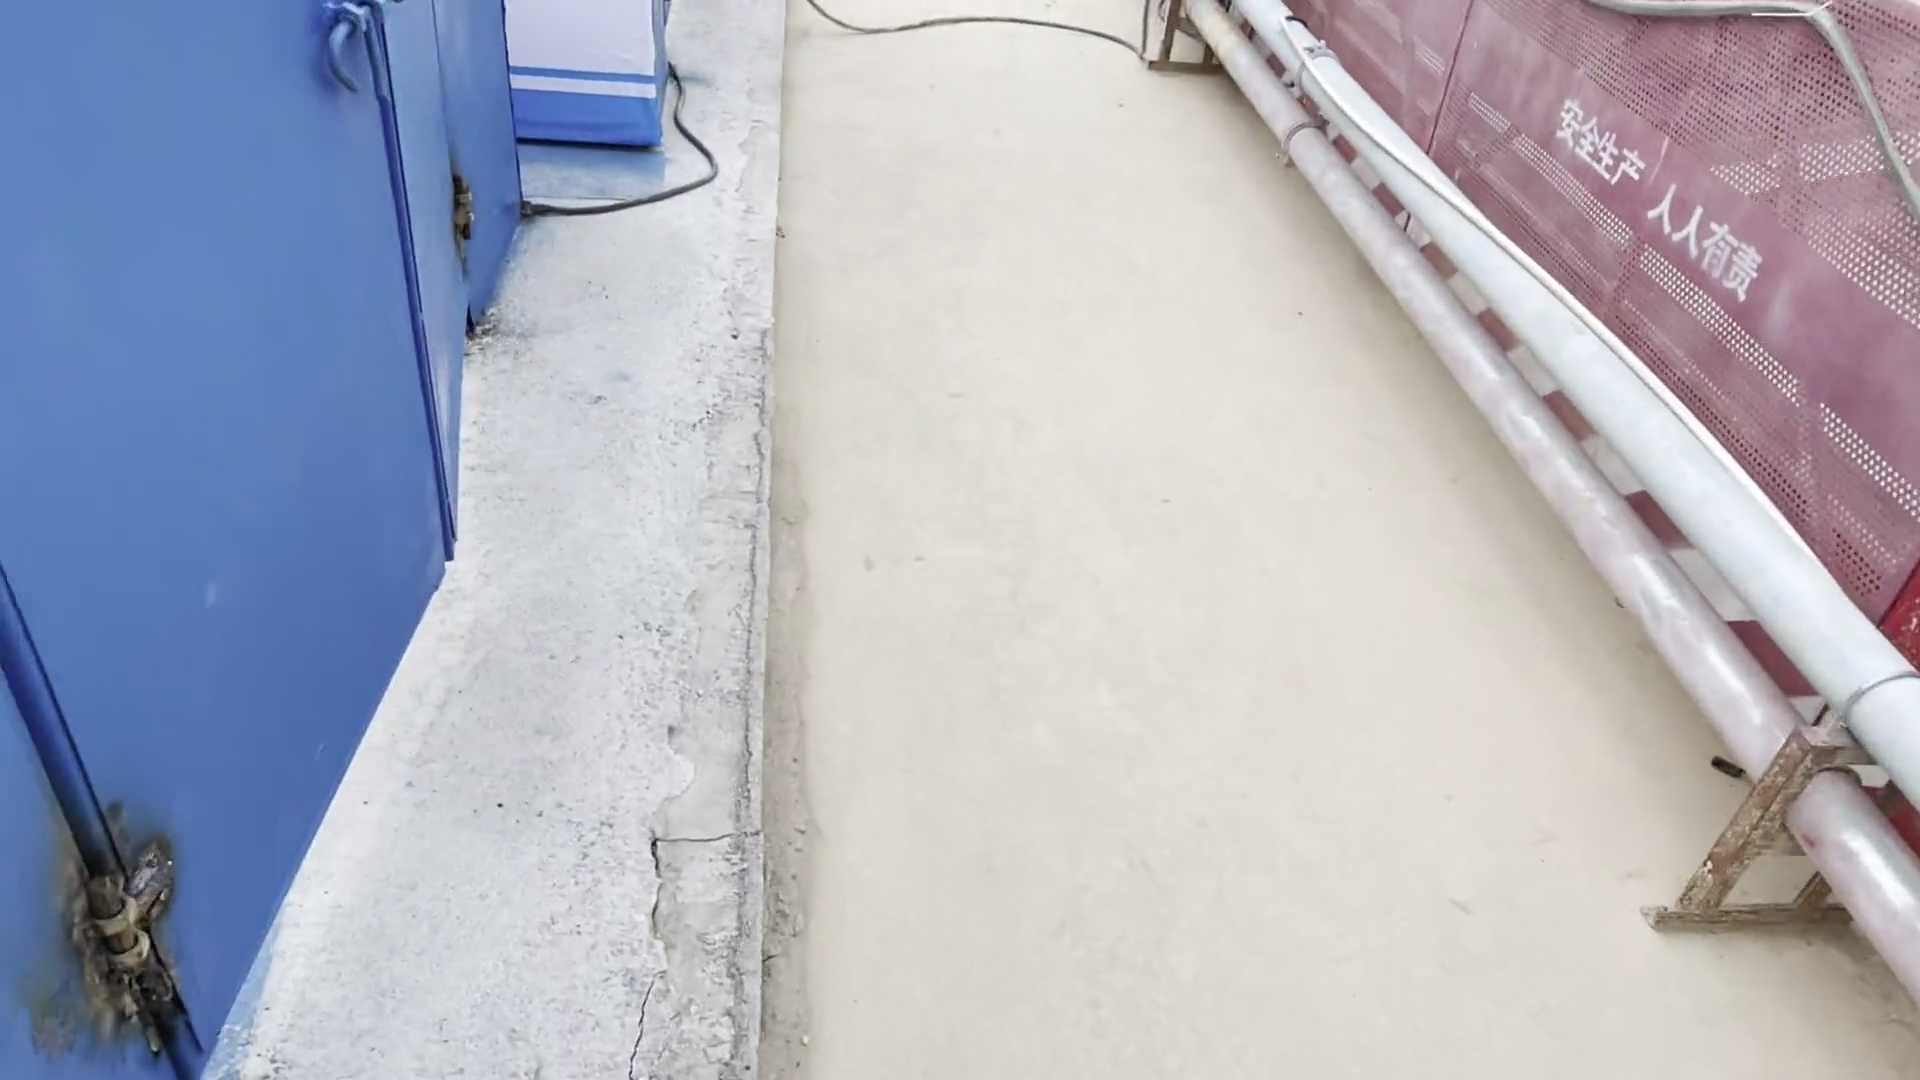fence: (1395, 7, 1920, 632)
